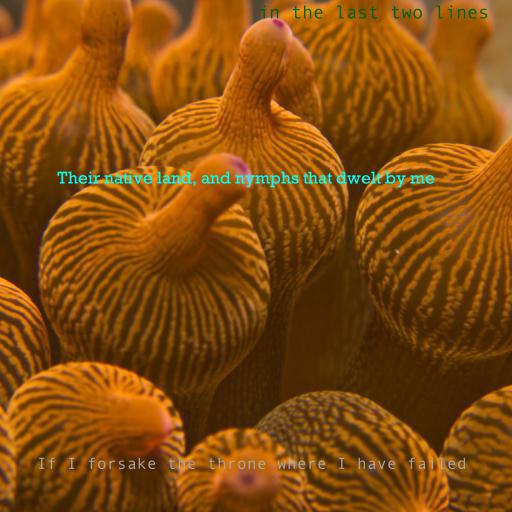Andale Mono: (37, 457, 467, 470), (257, 5, 489, 19)
Rockwell: (57, 171, 435, 188)
